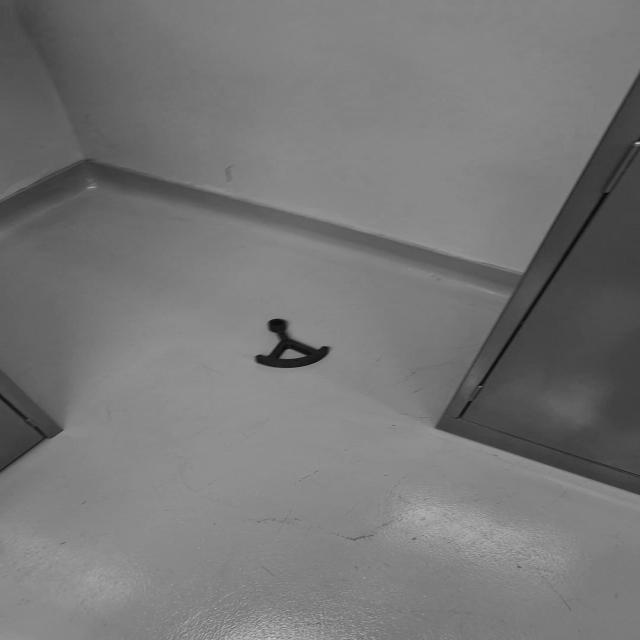haptic: (253, 318, 330, 369)
